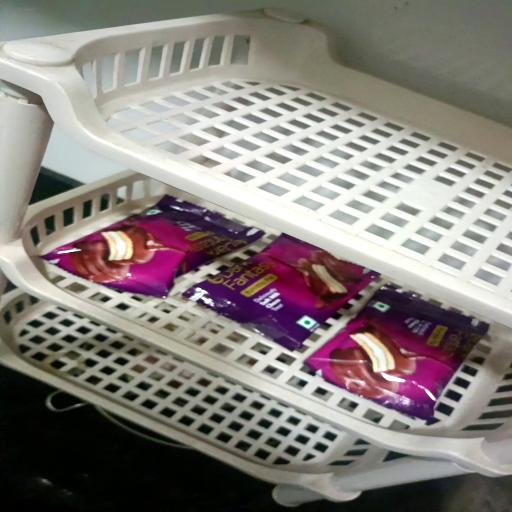Choco Pie: (306, 285, 489, 423), (42, 195, 265, 298), (183, 234, 379, 350)
